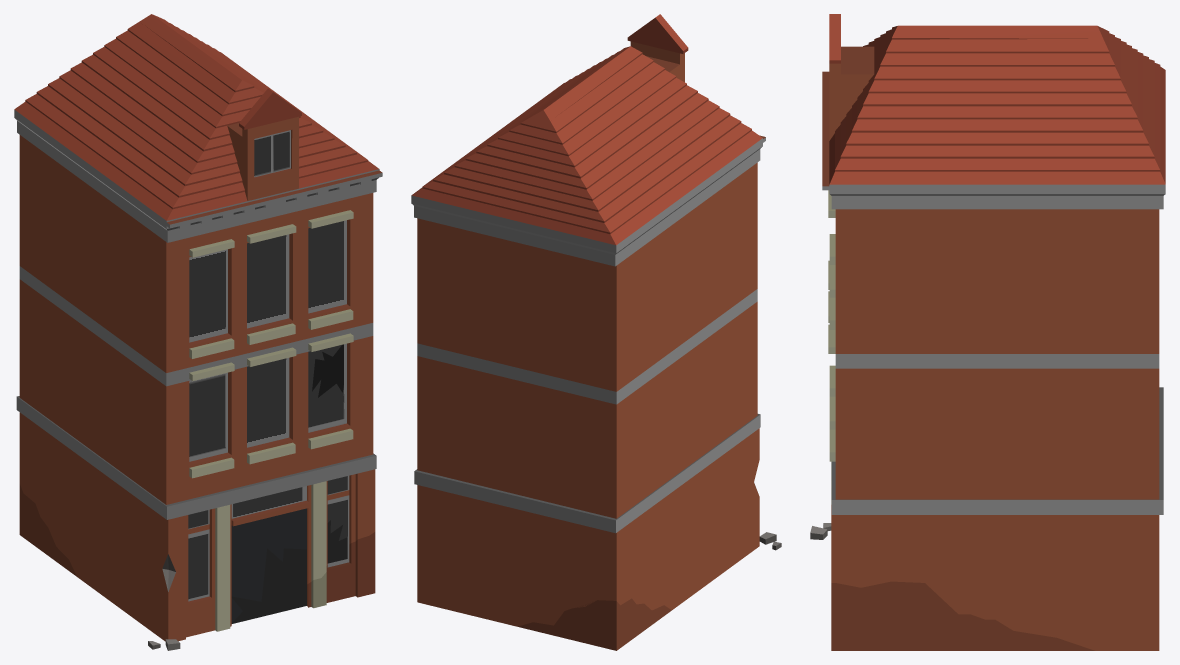
The model's file is SA_Bld_OfficeOld_02.glb.
3 views of the same model, side by side, from view 1: azimuth 30°, elevation 25°; view 2: azimuth 150°, elevation 25°; view 3: azimuth 270°, elevation 25° (orthographic). The views are drawn at different scales.
Visible parts, largest first — view 1: SA_Bld_OfficeOld_02; view 2: SA_Bld_OfficeOld_02; view 3: SA_Bld_OfficeOld_02.
Boxes of the visible parts, x1,y1,x2,y2 form: SA_Bld_OfficeOld_02: (14, 14, 382, 650); SA_Bld_OfficeOld_02: (411, 14, 781, 650); SA_Bld_OfficeOld_02: (810, 14, 1165, 650).
Bounding box in the file's own units: 3.86 × 8.47 × 4.69.
Materials: 1 (1 with a texture image).
